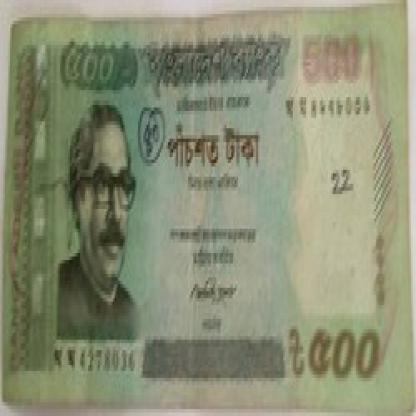500 taka: (48, 31, 150, 101), (160, 111, 263, 180)
currency: (5, 14, 414, 395)
